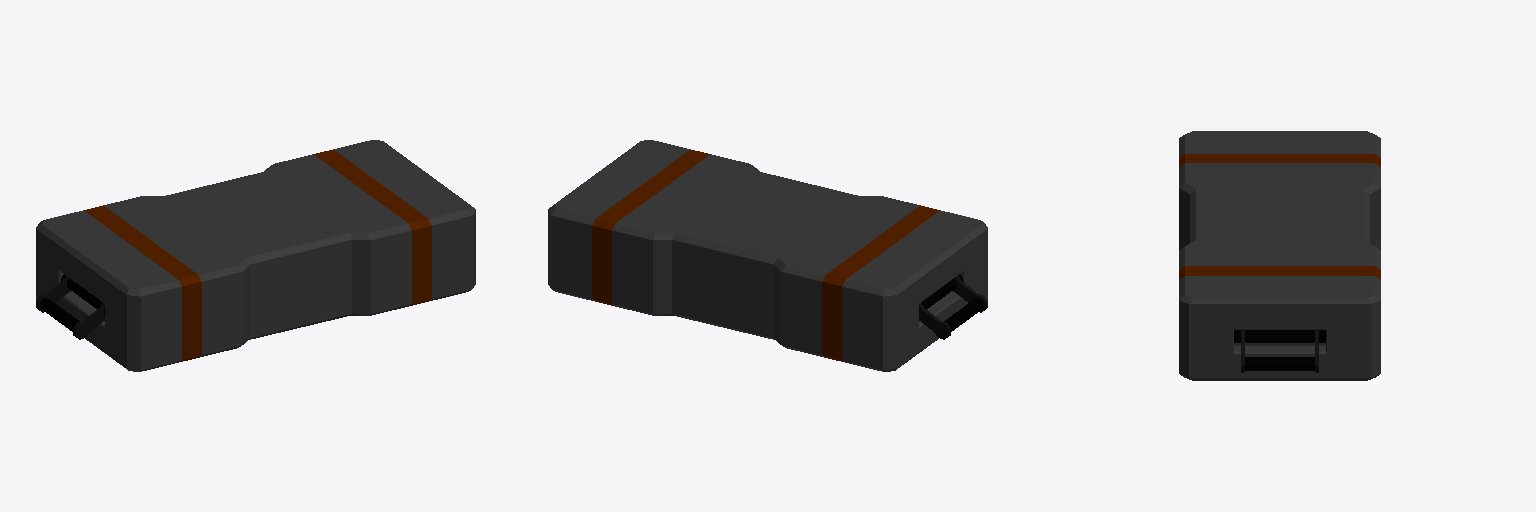
File: Crate_1.obj
The picture shows the model from 3 angles: view 1: azimuth 30°, elevation 25°; view 2: azimuth 150°, elevation 25°; view 3: azimuth 270°, elevation 25°; orthographic projection.
Parts seen in each view (by area): view 1: Crate_1; view 2: Crate_1; view 3: Crate_1.
Boxes of the visible parts, x1=… form: Crate_1: x1=36, y1=140, x2=475, y2=371; Crate_1: x1=548, y1=140, x2=987, y2=371; Crate_1: x1=1179, y1=131, x2=1380, y2=380.
Bounding box in the file's own units: 6.63 × 1.31 × 2.89.